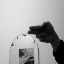h: (26, 18, 58, 45)
